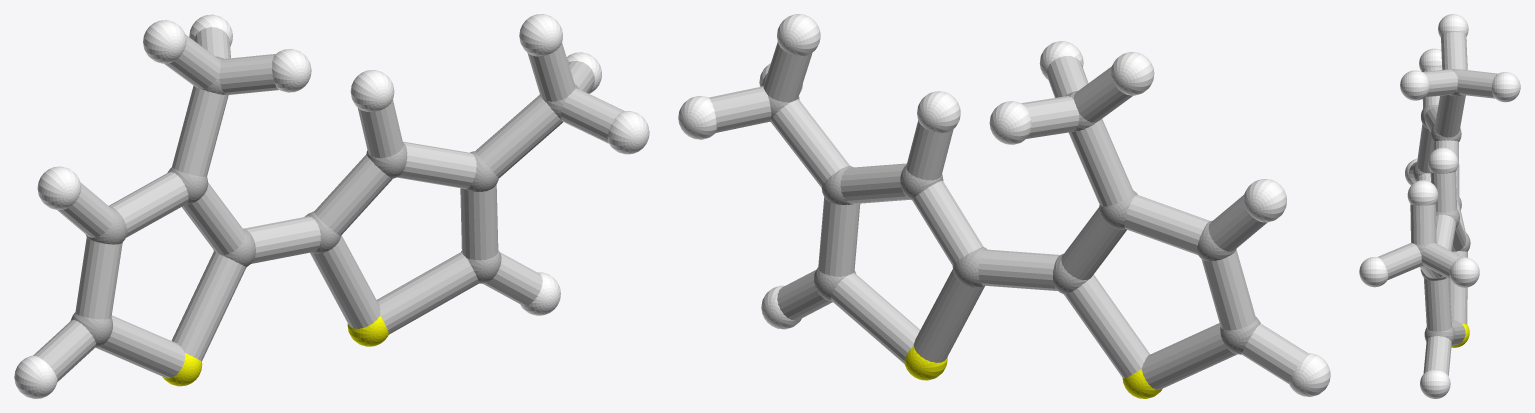
Rendered from Methylthiophene_Phi_15_Theta_190_Methylthiophene.glb.
The picture shows the model from 3 angles, left to right: view 1: azimuth 30°, elevation 25°; view 2: azimuth 150°, elevation 25°; view 3: azimuth 270°, elevation 25°; orthographic projection. The views are drawn at different scales.
Visible parts, largest first — view 1: grp7965, grp3621, grp1, grp7241; view 2: grp7965, grp3621, grp1, grp7241; view 3: grp7965, grp3621, grp1.
Boxes of the visible parts, x1,y1,x2,y2 form: grp7965: (33,27,624,381); grp3621: (14,14,649,398); grp1: (70,56,578,347); grp7241: (162,316,388,386); grp7965: (708,42,1307,389); grp3621: (678,14,1330,396); grp1: (763,85,1260,354); grp7241: (904,346,1162,398); grp7965: (1377,32,1497,375); grp3621: (1359,14,1520,398); grp1: (1413,69,1470,343).
Size of the model in its own units: 9.71 by 5.65 by 3.16.
